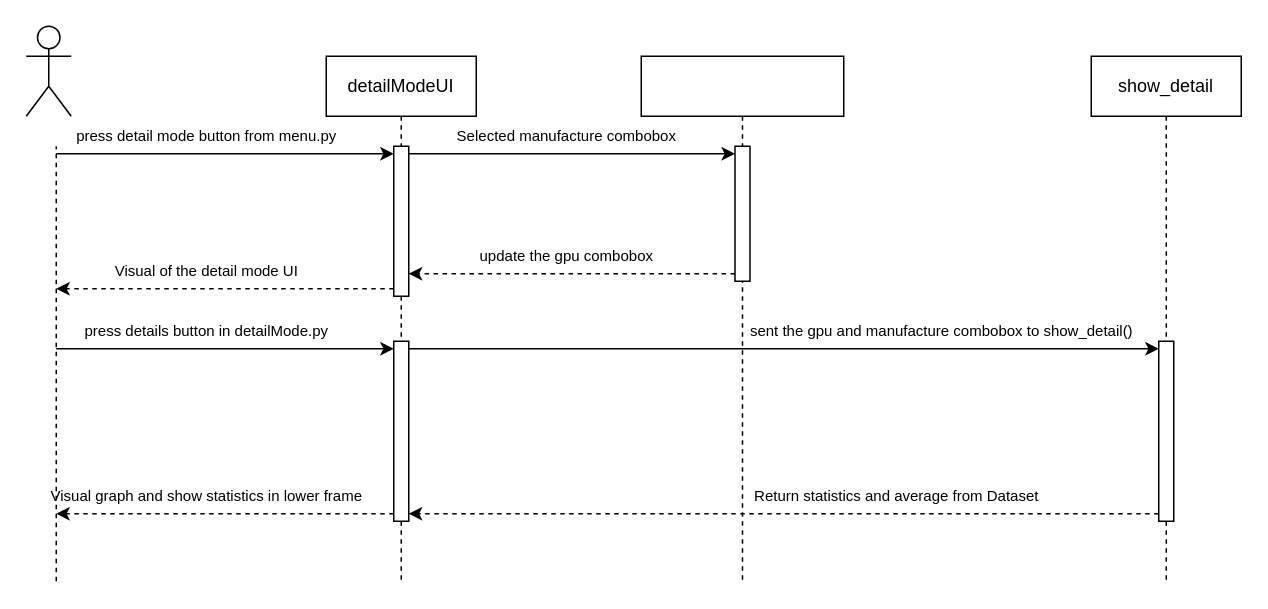
The diagram is 1268 pixels wide and 609 high, and some of its shapes have lost their labels. The shapes that lost their labels are listed below. From the top down, each one's centre as x and y in pixels, then its label:
[48,70]: User
[742,318]: update_gpu_combobox
